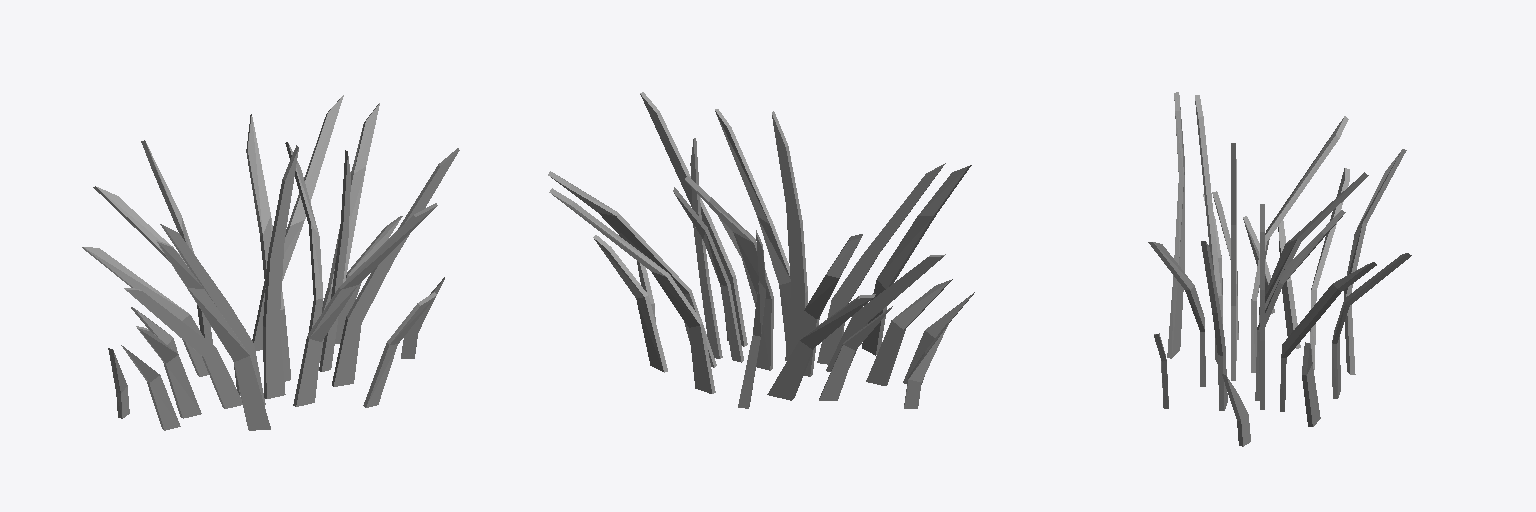
The model's file is Grass_Large_Extruded.obj.
The picture shows the model from 3 angles: view 1: azimuth 30°, elevation 25°; view 2: azimuth 150°, elevation 25°; view 3: azimuth 270°, elevation 25°; orthographic projection.
Visible parts, largest first — view 1: Grass_Large_Extruded_Plane.002; view 2: Grass_Large_Extruded_Plane.002; view 3: Grass_Large_Extruded_Plane.002.
Part boxes in pixels (bbox=[...]): Grass_Large_Extruded_Plane.002: bbox=[82, 95, 459, 430]; Grass_Large_Extruded_Plane.002: bbox=[548, 92, 974, 408]; Grass_Large_Extruded_Plane.002: bbox=[1148, 92, 1411, 446].
Bounding box in the file's own units: 0.7447 × 0.5089 × 0.4973.